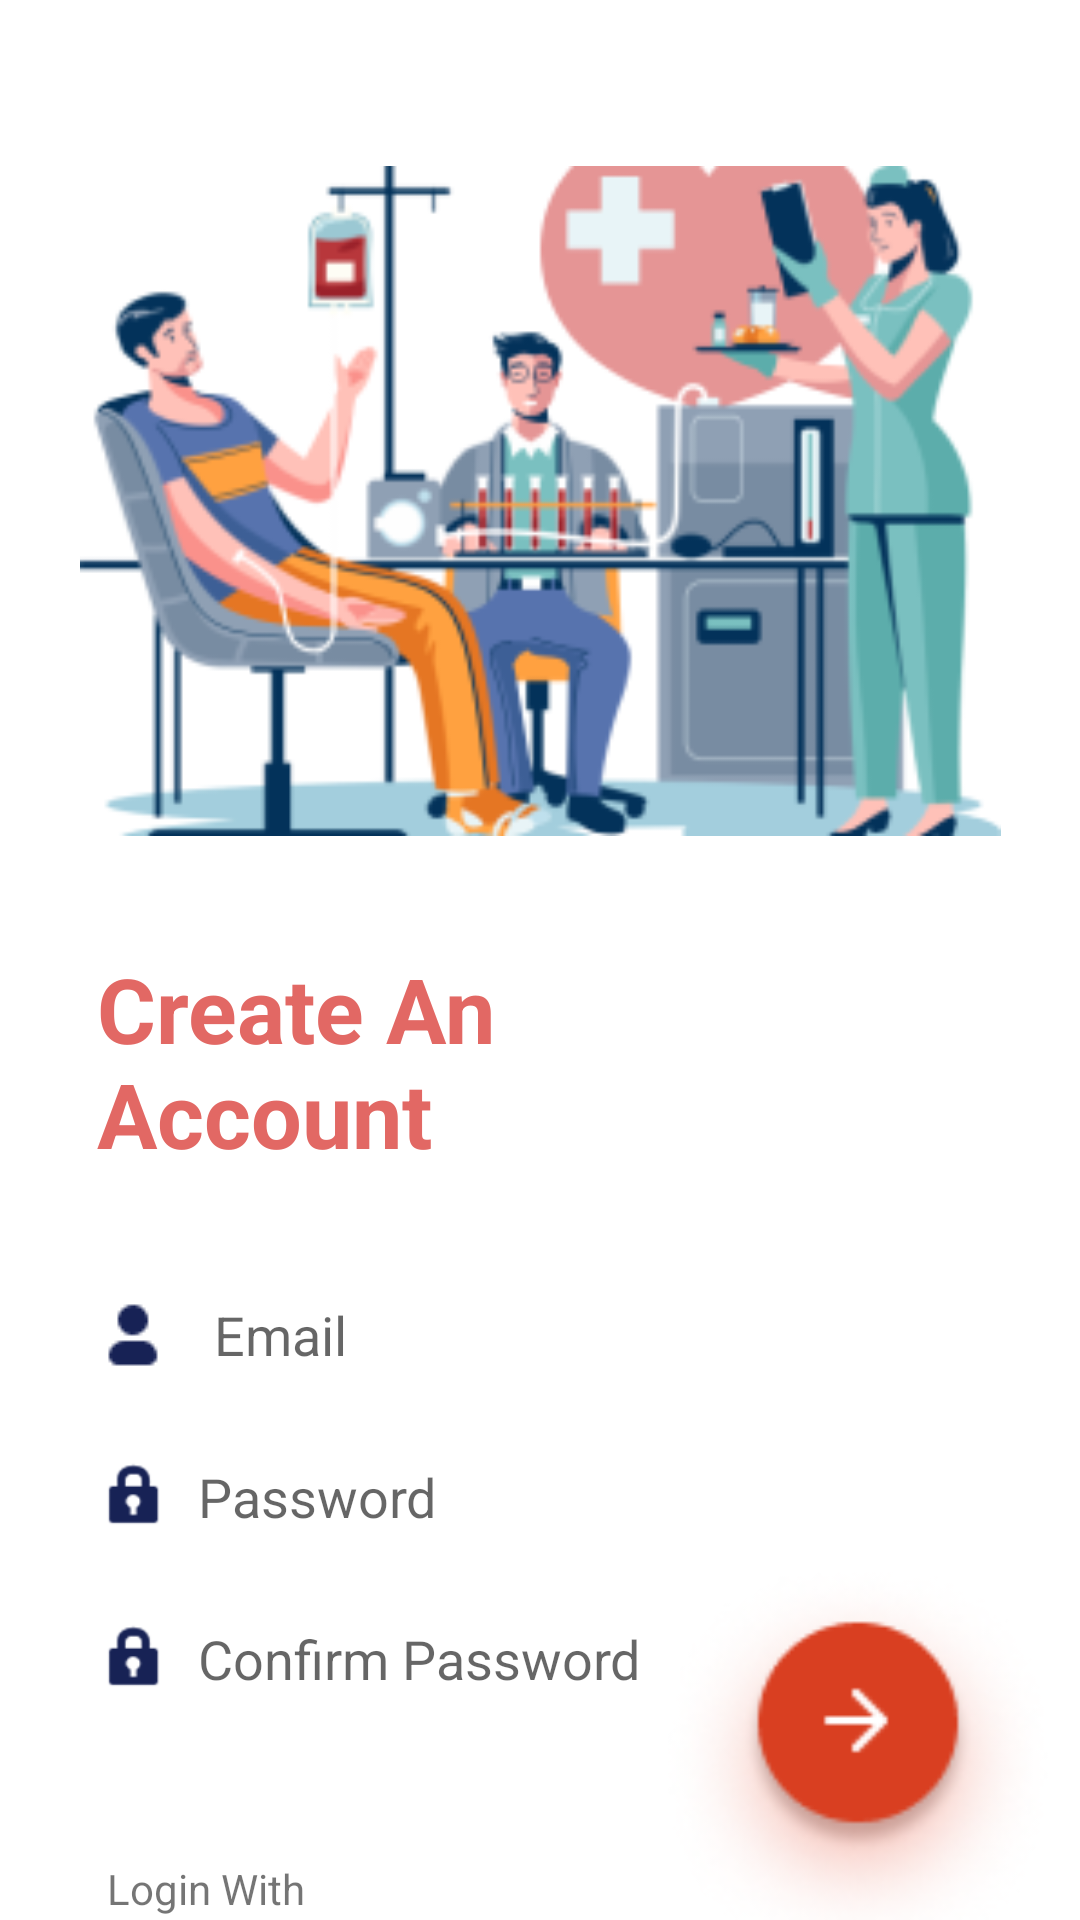

Icons on this 1080 x 1920 Android screen, each with its box as (x1, y1, x2, y2):
signup: (741, 1621, 975, 1879)
